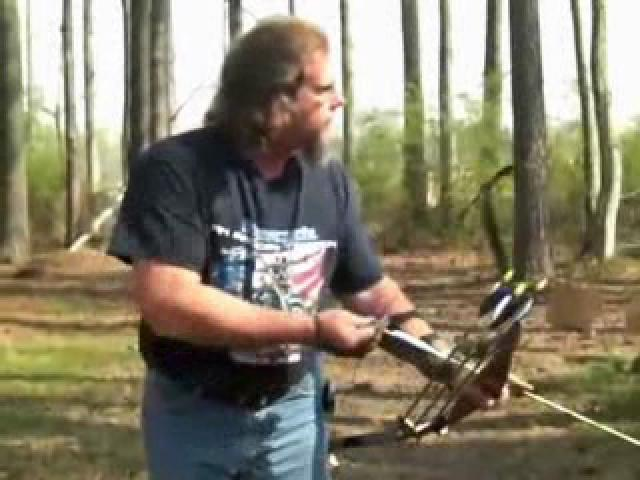I: (110, 8, 551, 480)
